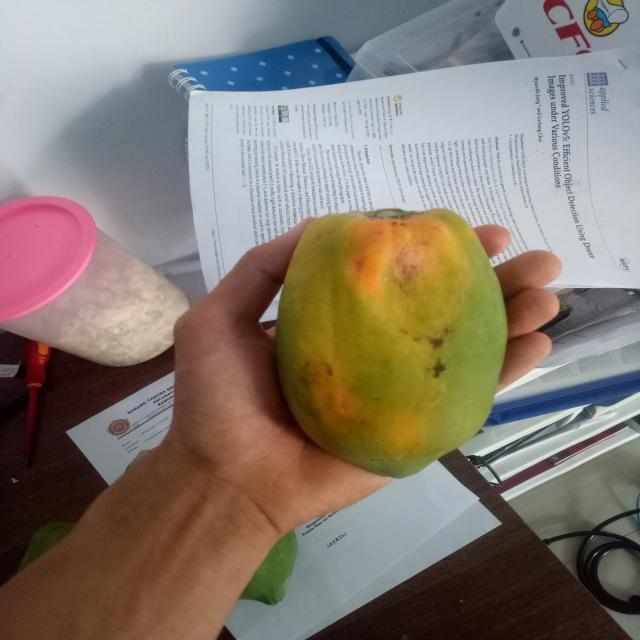Pepaya rippen: (274, 204, 502, 482)
